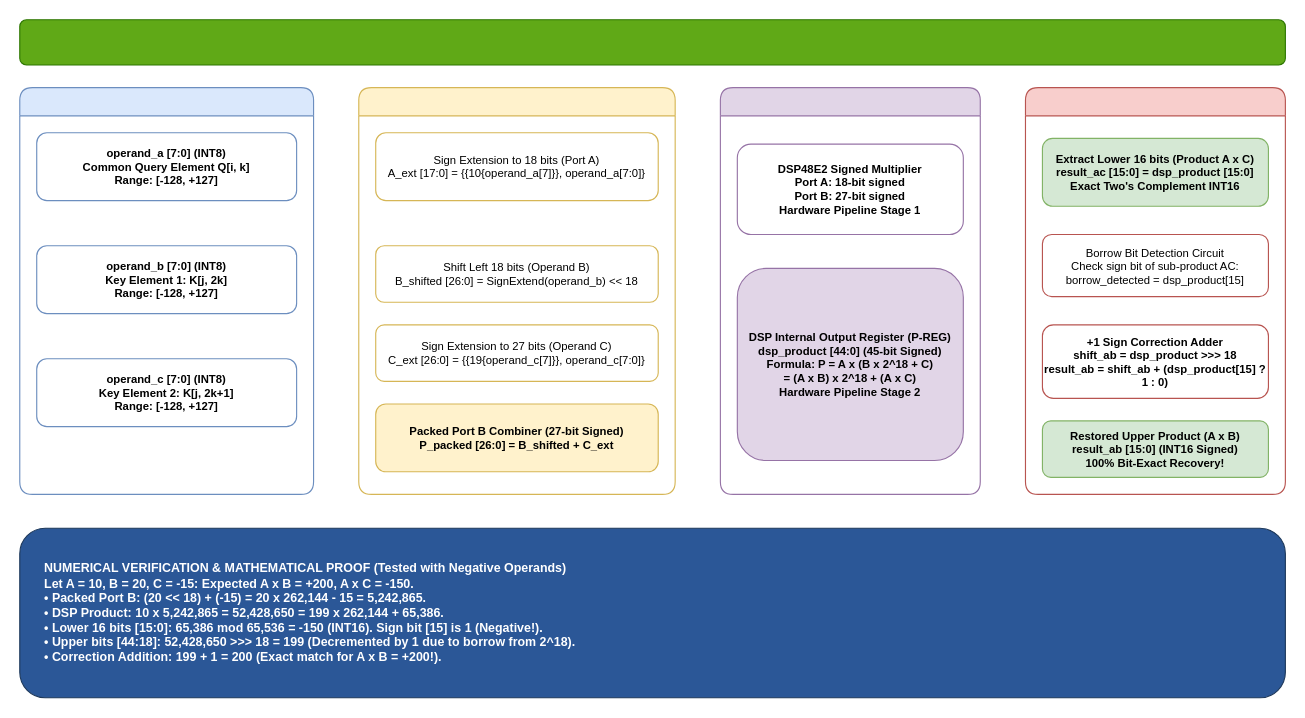
This 1305x718 diagram has some shape labels left out. Here are the shapes that lost their labels. From the top down, the box of each, then its label:
(19, 19, 1285, 65): MICROARCHITECTURE DEEP DIVE: pe_slice_dsp_packing (DSP48E2 Dual-INT8 Multiplier)
(19, 86, 314, 494): INPUT OPERANDS (8-bit Signed Two's Complement)
(358, 86, 675, 494): OPERAND PACKING & SIGN EXTENSION LOGIC
(719, 86, 980, 494): AMD UltraScale+ DSP48E2 HARD PRIMITIVE
(1024, 86, 1285, 494): UNPACKING & BORROW BIT CORRECTION LOGIC
